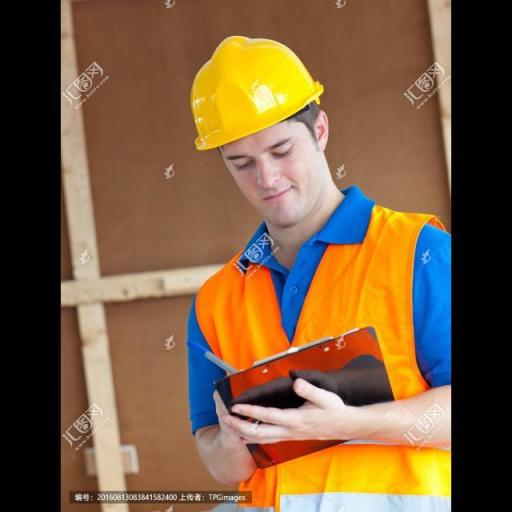Person: (152, 13, 470, 499)
helmet: (180, 26, 334, 156), (173, 34, 330, 157)
vest: (180, 202, 450, 510), (174, 219, 456, 498)
